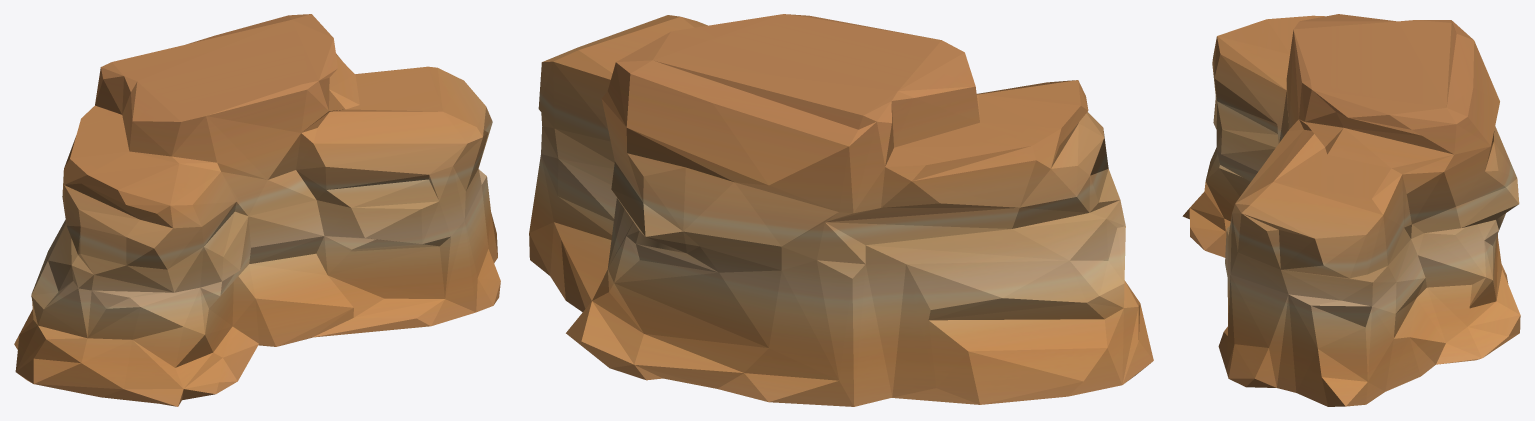
Rendered from Monument_cliffB_large.fbx.
The picture shows the model from 3 angles, left to right: view 1: azimuth 30°, elevation 25°; view 2: azimuth 150°, elevation 25°; view 3: azimuth 270°, elevation 25°; orthographic projection. The views are drawn at different scales.
Visible parts, largest first — view 1: Monument_cliffB_large; view 2: Monument_cliffB_large; view 3: Monument_cliffB_large.
Part boxes in pixels (bbox=[...]): Monument_cliffB_large: bbox=[14, 14, 500, 406]; Monument_cliffB_large: bbox=[529, 14, 1153, 406]; Monument_cliffB_large: bbox=[1182, 14, 1520, 406].
Size of the model in its own units: 45.67 by 20.54 by 27.55.
